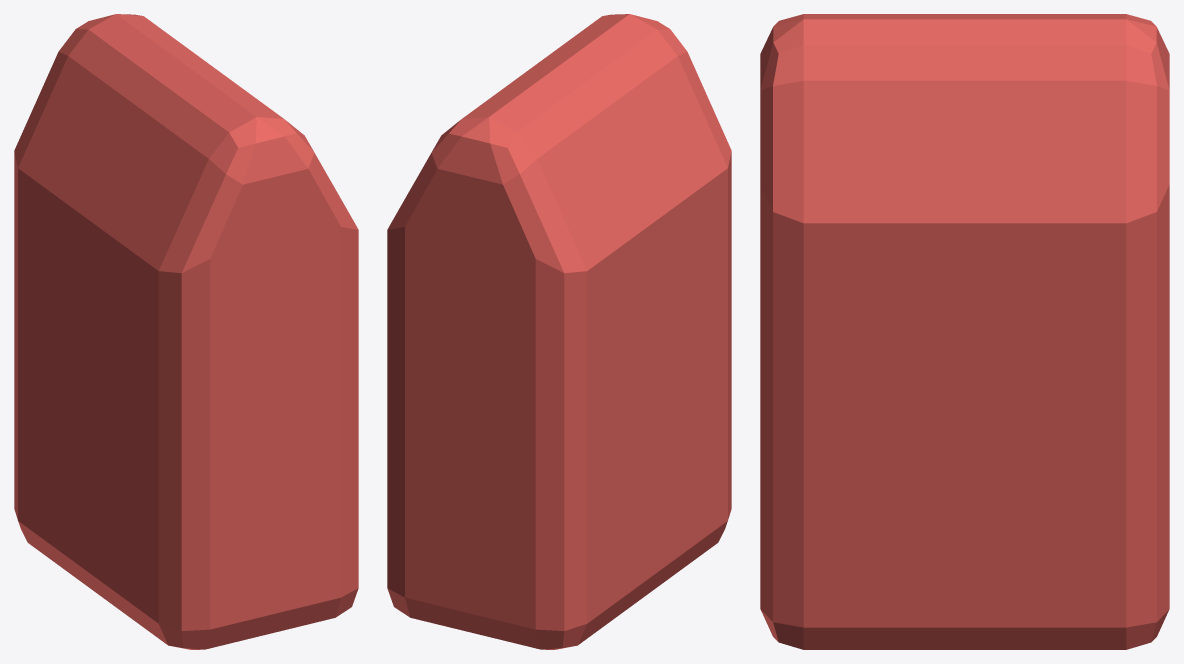
Rendered from lixo_vermelho.glb.
3 views of the same model, side by side, from view 1: azimuth 30°, elevation 25°; view 2: azimuth 150°, elevation 25°; view 3: azimuth 270°, elevation 25° (orthographic). The views are drawn at different scales.
Visible parts, largest first — view 1: lixeiras.002; view 2: lixeiras.002; view 3: lixeiras.002.
Boxes of the visible parts, x1=… form: lixeiras.002: x1=14, y1=14, x2=358, y2=649; lixeiras.002: x1=387, y1=14, x2=731, y2=649; lixeiras.002: x1=760, y1=14, x2=1169, y2=649.
Size of the model in its own units: 0.3808 by 0.9586 by 0.5996.
